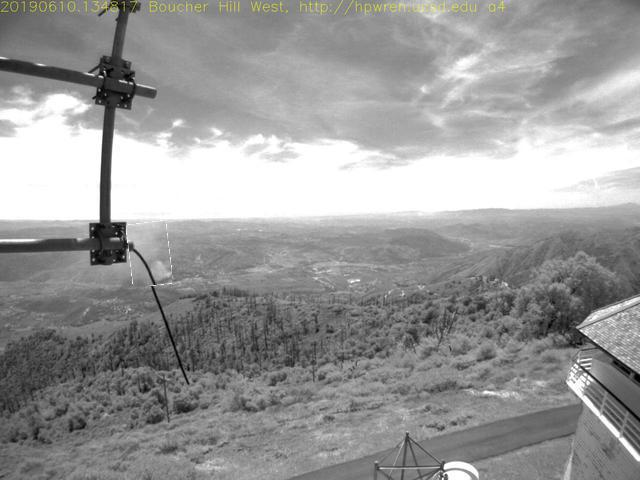smoke: (129, 222, 173, 287)
